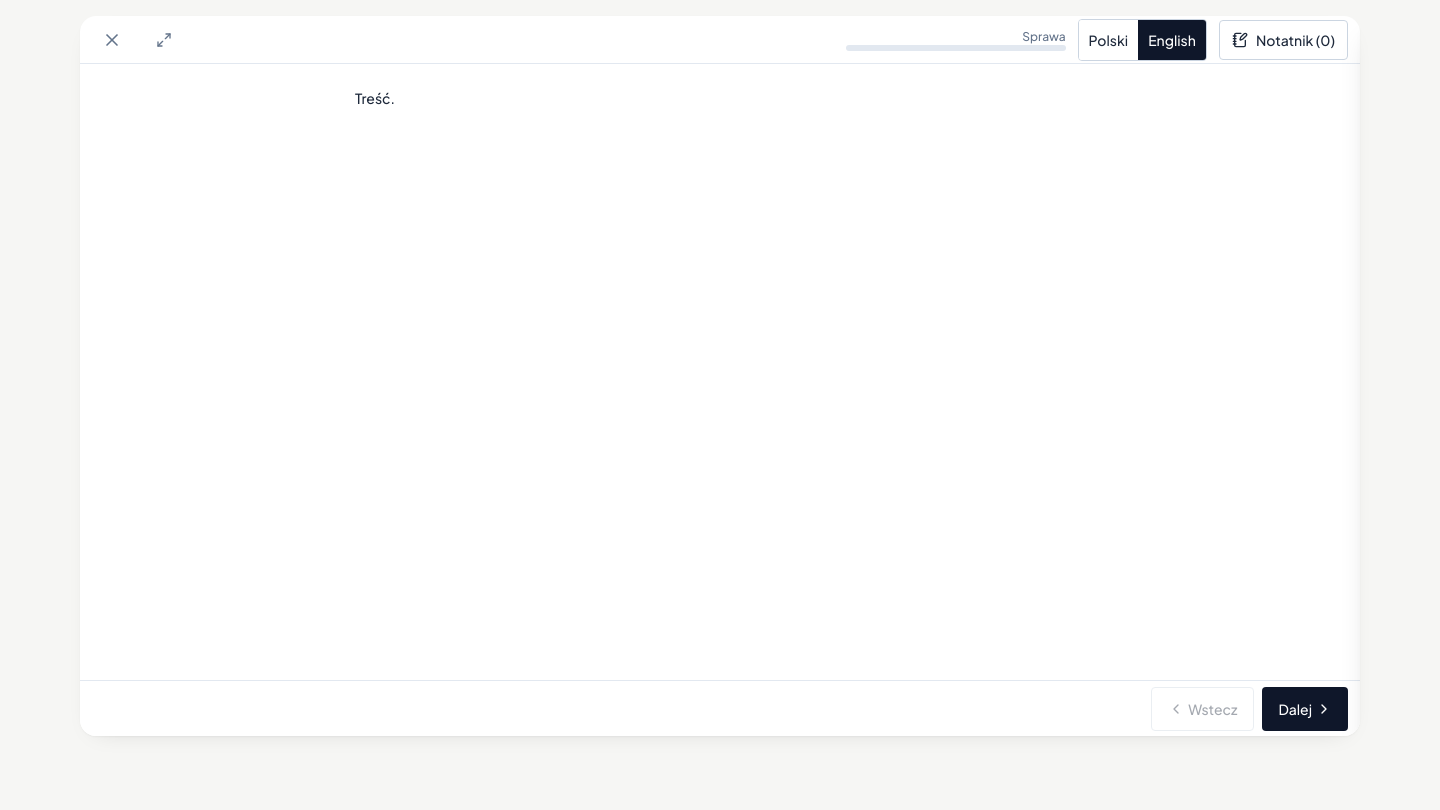
CoursePlayer: język kursu › błąd zapisu języka - widoczny komunikat (alert), przełącznik zostaje
Click the button "Polski" at (1108, 40), box [1079, 20, 1138, 60]
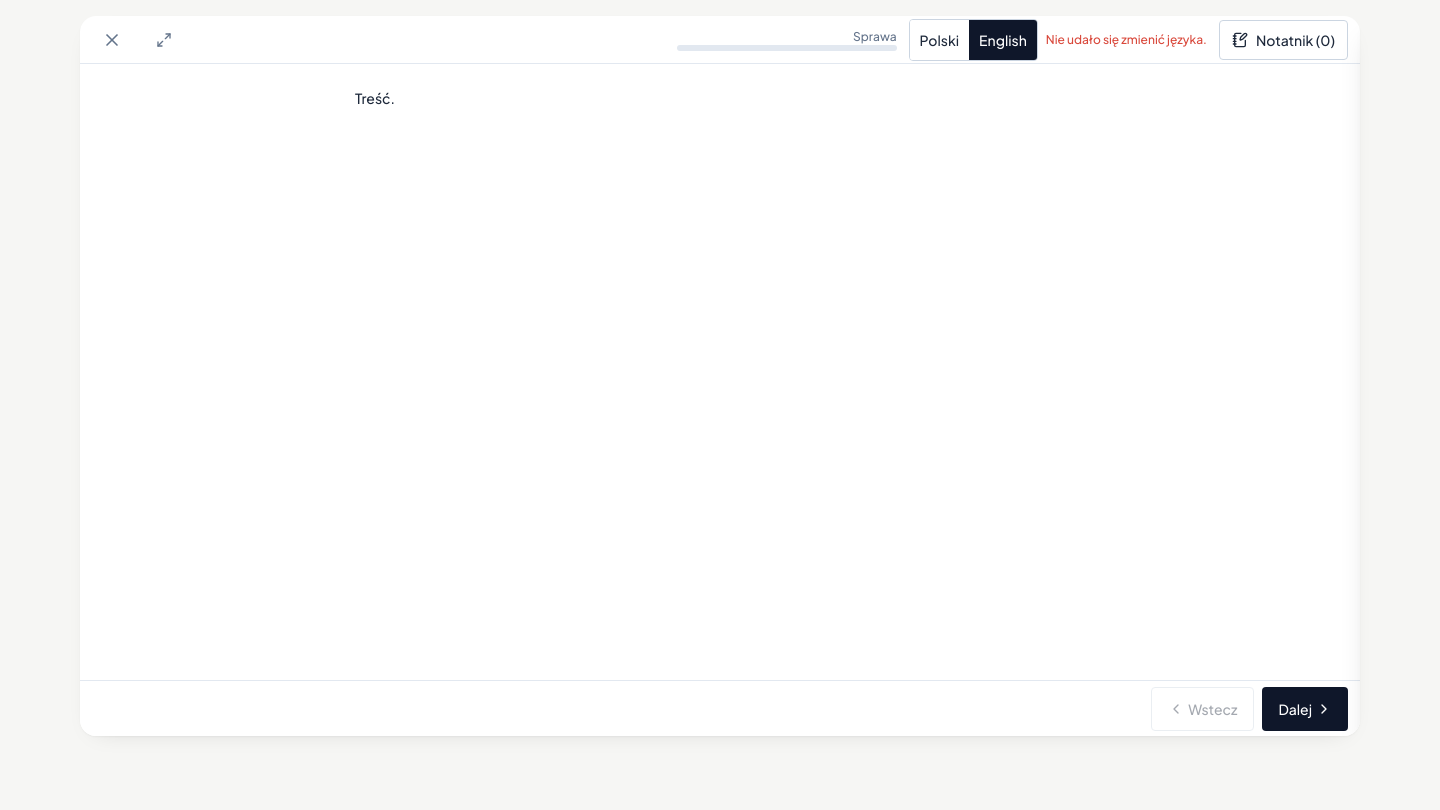
Check: the message reads "Nie udało się zmienić języka.", box [1046, 32, 1207, 46]
